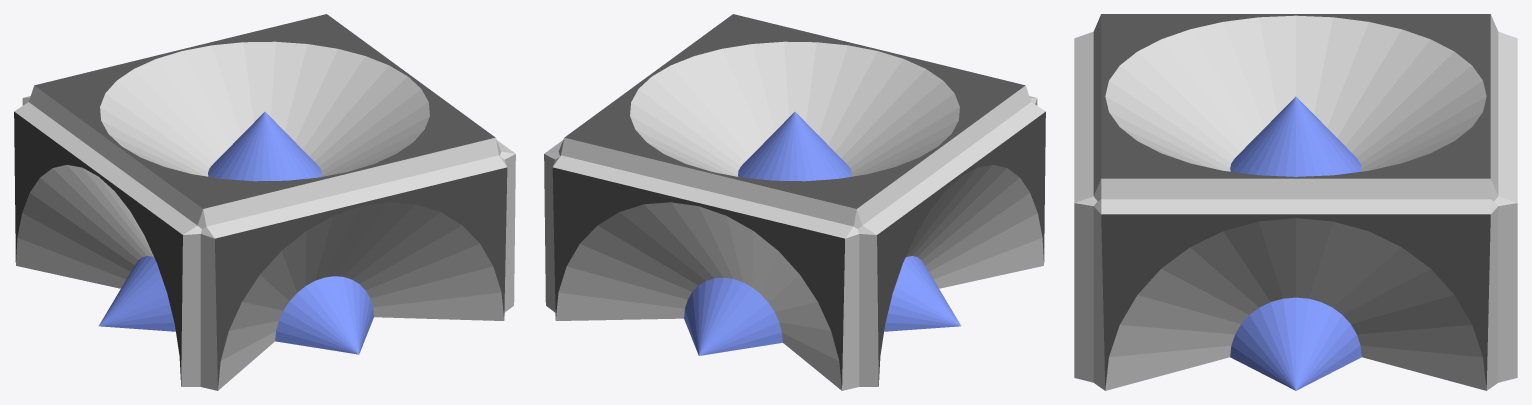
Rendered from Skin05.fbx.
The picture shows the model from 3 angles, left to right: view 1: azimuth 30°, elevation 25°; view 2: azimuth 150°, elevation 25°; view 3: azimuth 270°, elevation 25°; orthographic projection. The views are drawn at different scales.
Visible parts, largest first — view 1: Skin05; view 2: Skin05; view 3: Skin05.
Part boxes in pixels (bbox=[...]): Skin05: bbox=[14, 14, 515, 390]; Skin05: bbox=[544, 14, 1045, 390]; Skin05: bbox=[1074, 14, 1517, 390].
Bounding box in the file's own units: 1 × 0.5 × 1.
